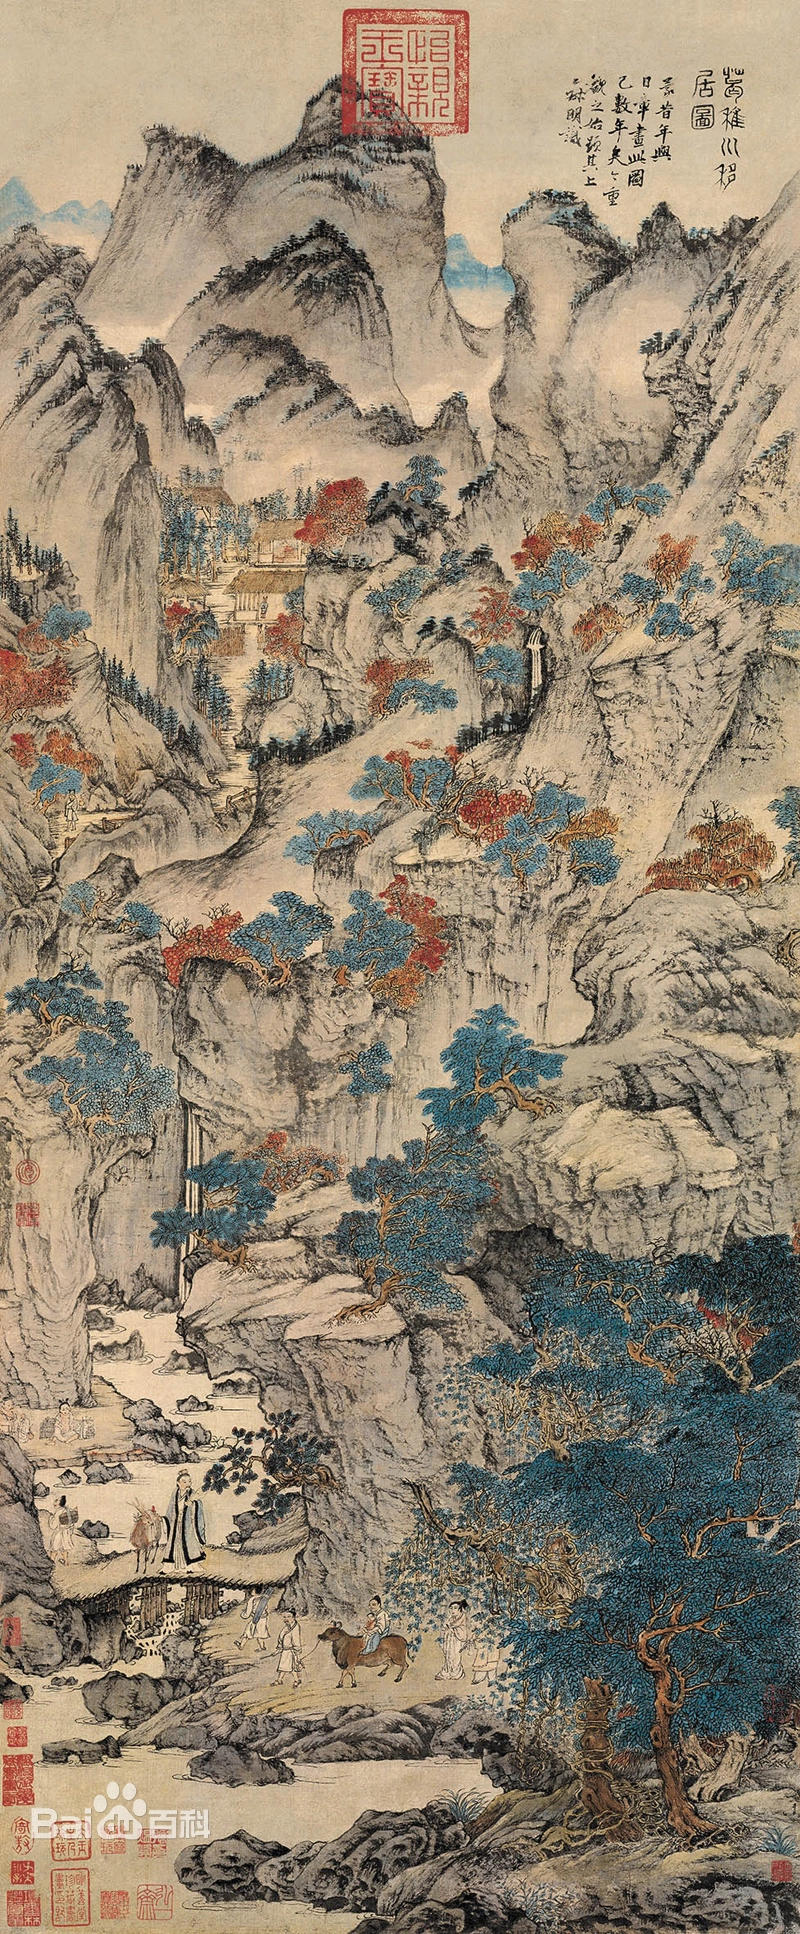bridge: (48, 1549, 320, 1597)
cow: (318, 1621, 418, 1694)
deer: (124, 1494, 163, 1574)
house: (154, 485, 320, 657)
kid: (58, 785, 86, 836)
man: (168, 1467, 214, 1575), (44, 1492, 83, 1580), (275, 1606, 305, 1697), (238, 1581, 272, 1655), (356, 1593, 390, 1660), (1, 1395, 38, 1448)
mountain: (487, 172, 800, 514), (96, 69, 474, 326)
pine: (448, 1246, 788, 1819), (363, 757, 623, 890), (525, 466, 710, 646), (12, 968, 172, 1157), (345, 1148, 512, 1317), (177, 1137, 343, 1286), (432, 1004, 572, 1137), (637, 775, 774, 899), (172, 893, 323, 993), (299, 457, 448, 546), (5, 610, 101, 724), (337, 884, 432, 990), (708, 524, 799, 613)
range: (5, 219, 223, 508), (184, 325, 490, 483)
rock: (173, 1798, 464, 1902), (179, 1732, 293, 1789), (78, 1672, 200, 1722), (120, 1400, 210, 1463), (94, 1329, 151, 1385)
waterfall: (175, 1064, 207, 1317), (518, 627, 552, 720)
woman: (439, 1597, 471, 1693), (48, 1399, 92, 1448)
